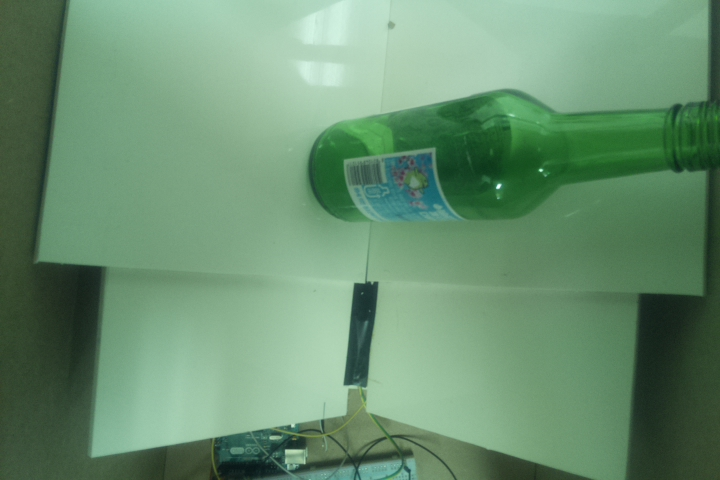soju: (308, 84, 720, 227)
